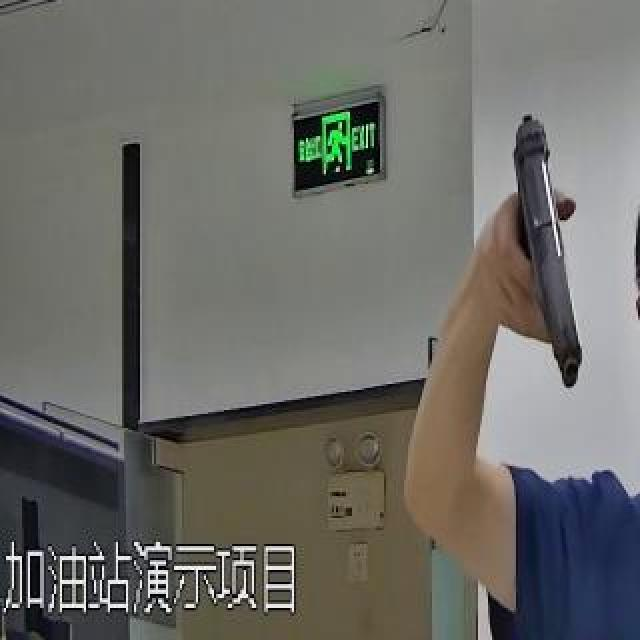Guns: (481, 74, 590, 402)
